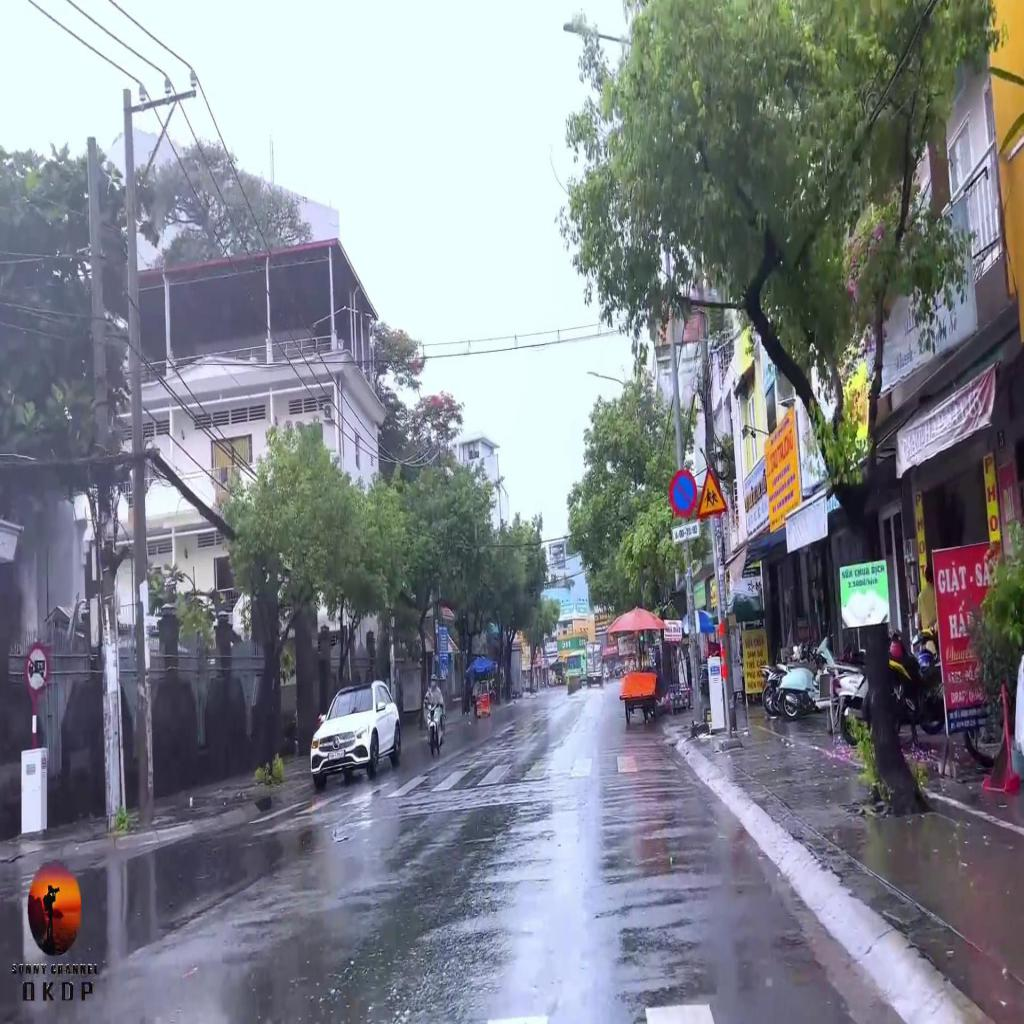cam_do_xe: (669, 468, 696, 517)
cam_o_to_tai: (25, 644, 50, 693)
chu_y_tre_em: (698, 464, 728, 516)
khac: (672, 521, 700, 544)
